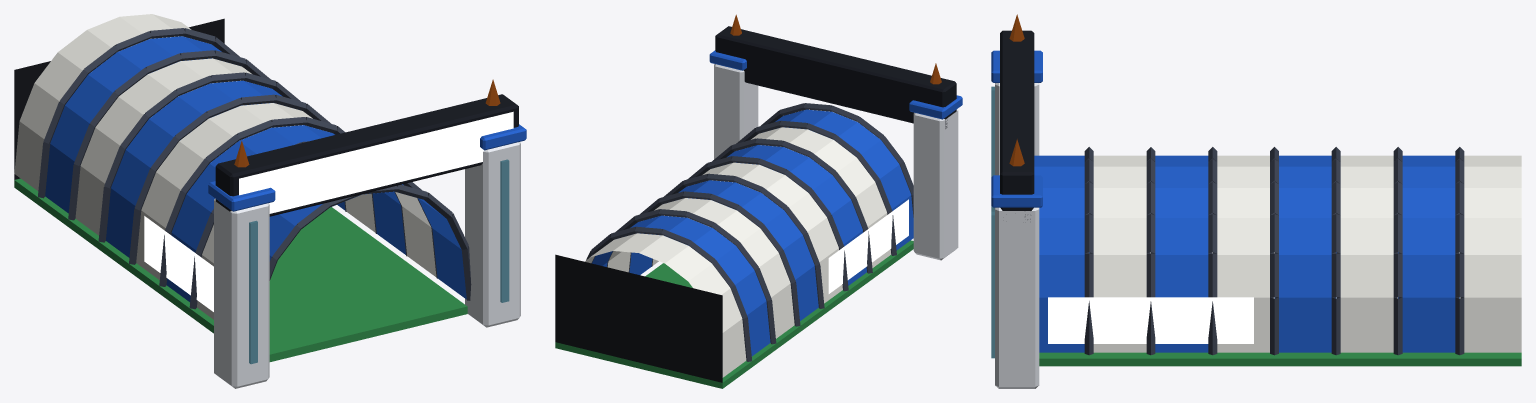
The model's file is tunnel.glb.
The picture shows the model from 3 angles, left to right: view 1: azimuth 30°, elevation 25°; view 2: azimuth 150°, elevation 25°; view 3: azimuth 270°, elevation 25°; orthographic projection. The views are drawn at different scales.
Parts seen in each view (by area): view 1: tunnel; view 2: tunnel; view 3: tunnel.
Part boxes in pixels (box(x1,y1,x2,y2)): tunnel: box(14, 14, 526, 388); tunnel: box(555, 14, 962, 388); tunnel: box(991, 14, 1521, 388).
Size of the model in its own units: 10.1 by 7.8 by 15.45.
Materials: 4 (2 with a texture image).
